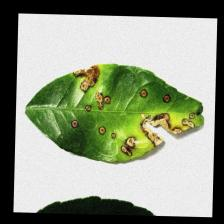canker: (57, 59, 212, 166)
